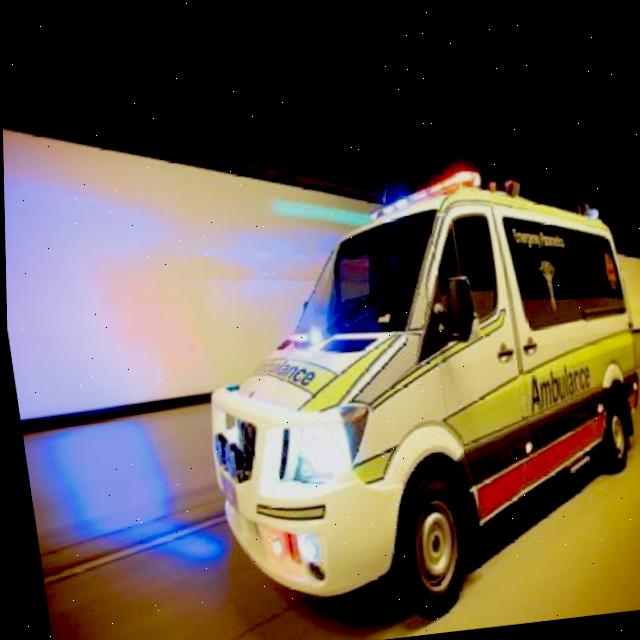emergency: (170, 143, 640, 640)
